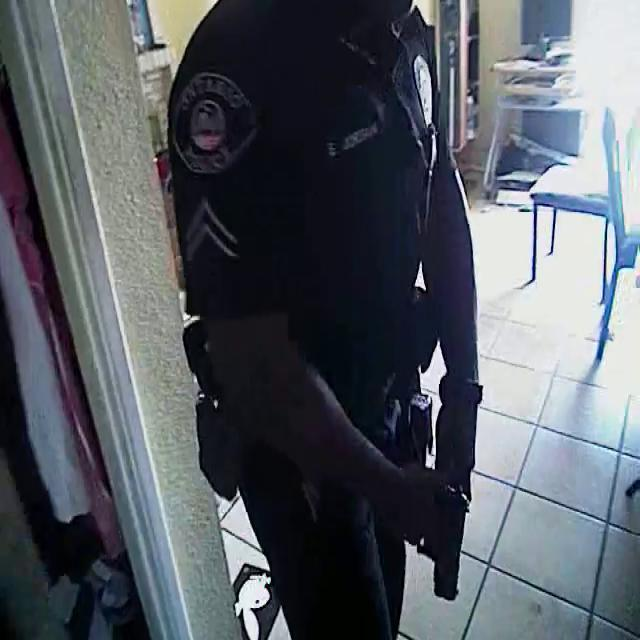gun: (391, 457, 506, 611)
